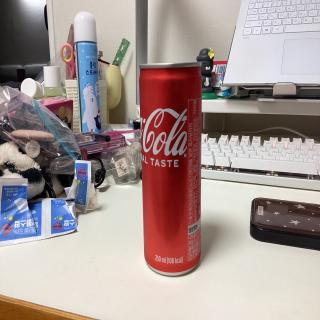cocacola: (137, 62, 208, 278)
